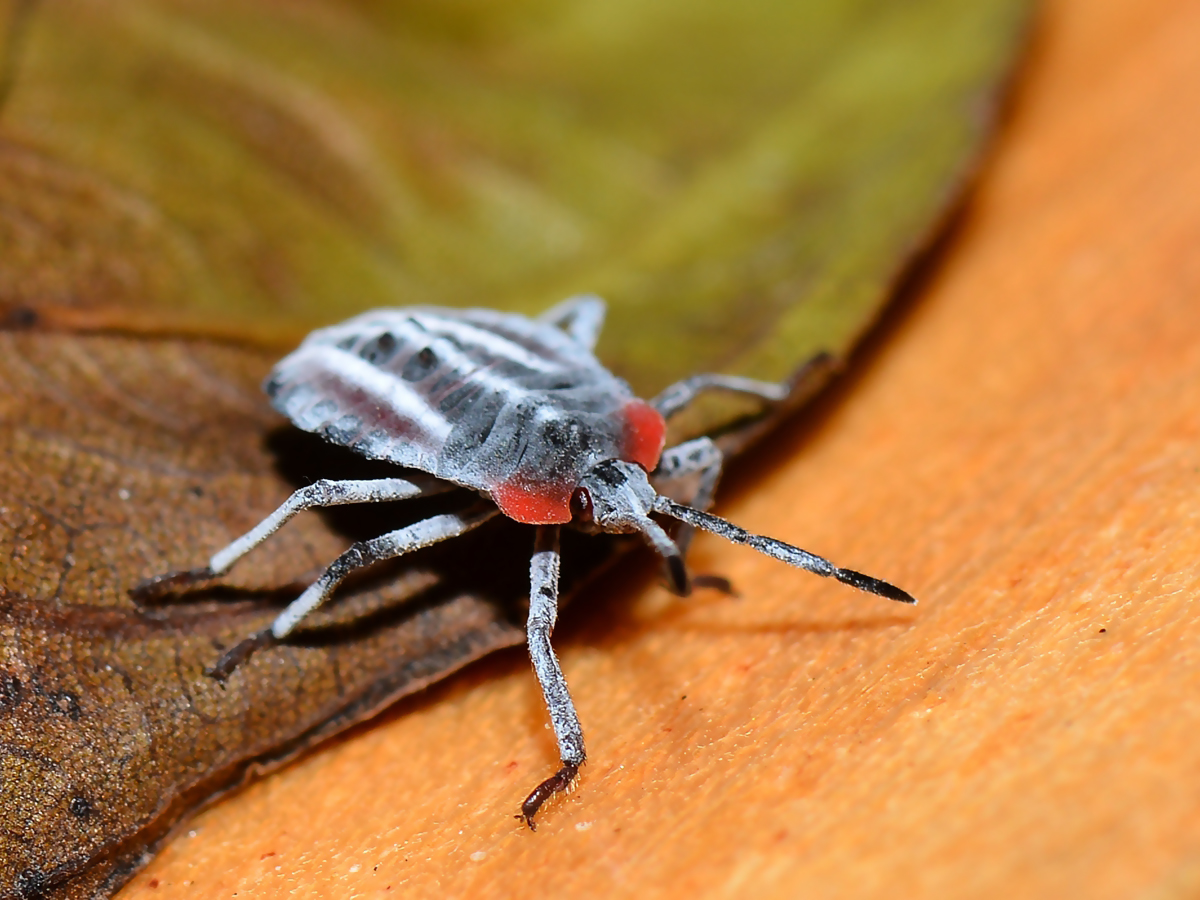chunchong: (218, 237, 883, 735)
